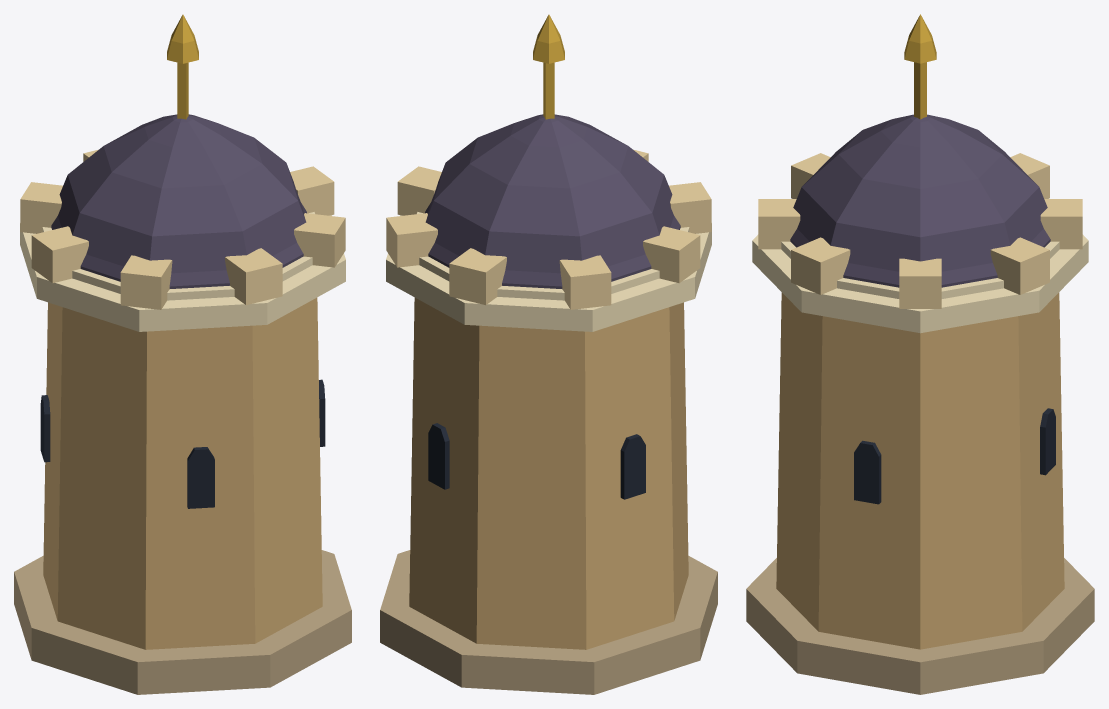
File: wall_corner.fbx
3 views of the same model, side by side, from view 1: azimuth 30°, elevation 25°; view 2: azimuth 150°, elevation 25°; view 3: azimuth 270°, elevation 25° (orthographic).
Parts seen in each view (by area): view 1: wall_corner; view 2: wall_corner; view 3: wall_corner.
Part boxes in pixels (bbox=[...]): wall_corner: bbox=[14, 14, 351, 694]; wall_corner: bbox=[380, 14, 717, 694]; wall_corner: bbox=[746, 14, 1094, 694].
Size of the model in its own units: 5.8 by 11.16 by 5.8.
1 material, 1 textured.
